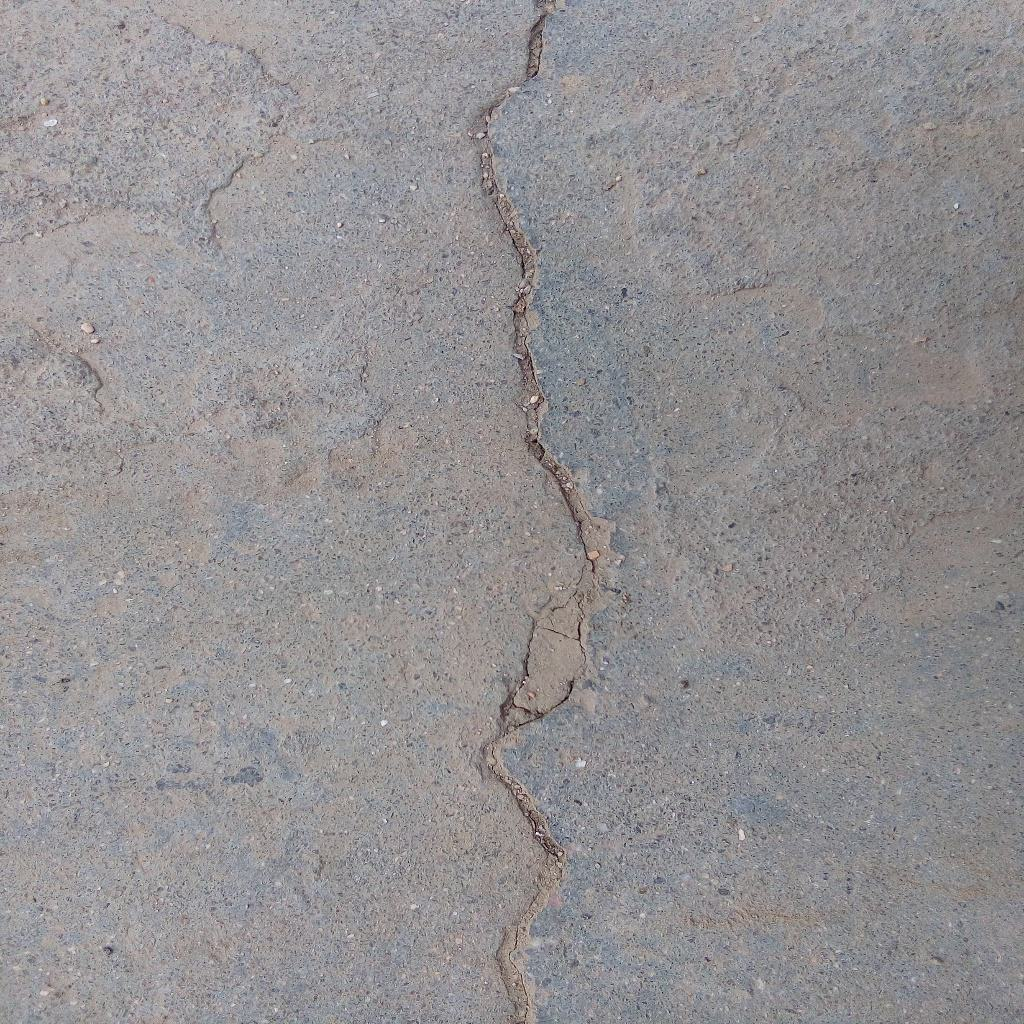Crack: (465, 1, 624, 1024)
